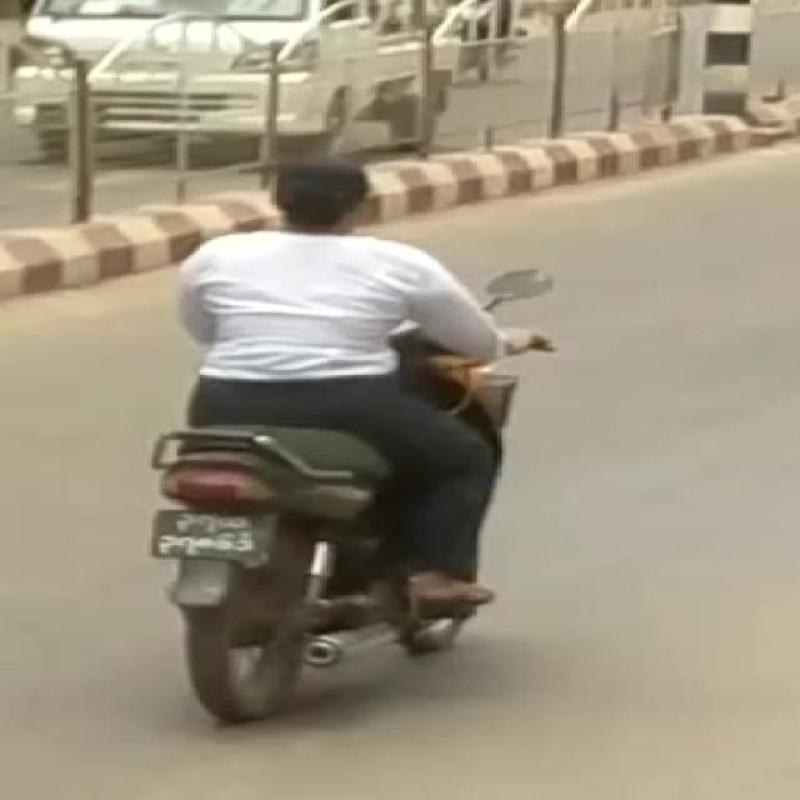nohelmet: (250, 145, 415, 255)
